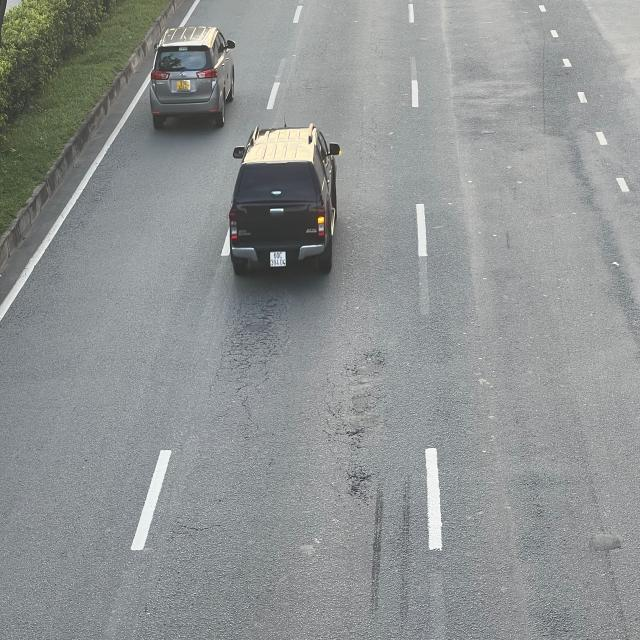car: (227, 127, 341, 275), (150, 26, 238, 128)
